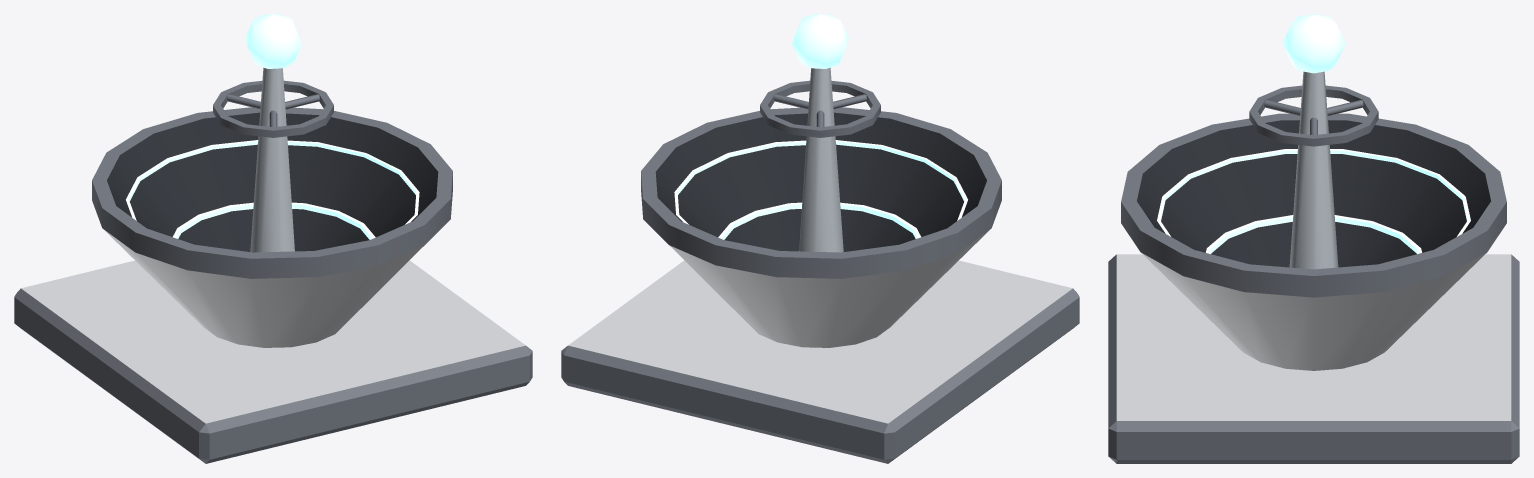
The model's file is R4X_ScannerPulse_LOD1.fbx.
The picture shows the model from 3 angles, left to right: view 1: azimuth 30°, elevation 25°; view 2: azimuth 150°, elevation 25°; view 3: azimuth 270°, elevation 25°; orthographic projection. The views are drawn at different scales.
Parts seen in each view (by area): view 1: R4X_ScannerPulse_LOD1; view 2: R4X_ScannerPulse_LOD1; view 3: R4X_ScannerPulse_LOD1.
Part boxes in pixels (x1=…): R4X_ScannerPulse_LOD1: x1=14, y1=14, x2=532, y2=463; R4X_ScannerPulse_LOD1: x1=561, y1=14, x2=1079, y2=463; R4X_ScannerPulse_LOD1: x1=1108, y1=14, x2=1519, y2=463.
Size of the model in its own units: 0.52 by 0.51 by 0.52.
